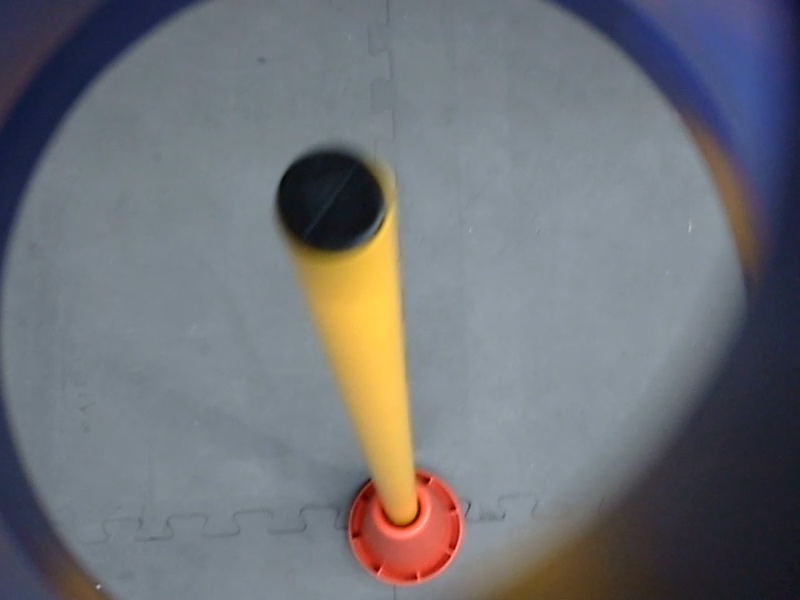tip: (266, 137, 403, 264)
